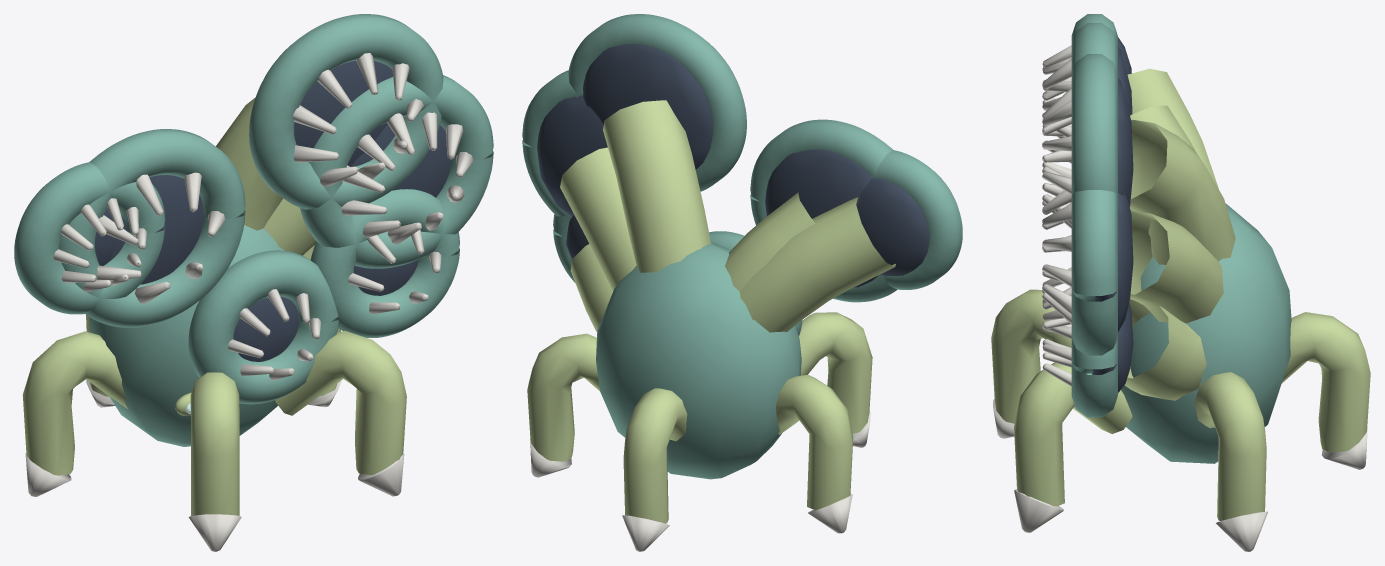
File: bio_manymouth_09_far.glb
3 renders of one model, left to right at view 1: azimuth 30°, elevation 25°; view 2: azimuth 150°, elevation 25°; view 3: azimuth 270°, elevation 25°, orthographic. The views are drawn at different scales.
Visible parts, largest first — view 1: Raised oral lip.003, Raised oral lip.001, Raised oral lip.005, Raised oral lip.002, Raised oral lip.004, Central branching knot, Raised oral lip, Crooked support.003, Crooked support.001, Crooked support.002, Inward tooth.040, Inward tooth.021 (+15 smaller); view 2: Central branching knot, Bent oral neck.003, Bent oral neck.004, Raised oral lip.003, Recessed mouth cavity.003, Crooked support.001, Crooked support, Crooked support.004, Raised oral lip.001, Bent oral neck.005, Raised oral lip.004, Crooked support.002 (+12 smaller); view 3: Central branching knot, Bent oral neck.003, Crooked support, Raised oral lip.005, Crooked support.004, Crooked support.003, Bent oral neck.005, Raised oral lip.003, Crooked support.002, Bent oral neck, Raised oral lip, Bent oral neck.004 (+15 smaller).
Boxes of the visible parts, x1=… form: Raised oral lip.003: x1=249, y1=14, x2=443, y2=209; Raised oral lip.001: x1=59, y1=129, x2=245, y2=327; Raised oral lip.005: x1=300, y1=75, x2=493, y2=268; Raised oral lip.002: x1=188, y1=250, x2=338, y2=404; Raised oral lip.004: x1=14, y1=162, x2=165, y2=314; Central branching knot: x1=89, y1=225, x2=284, y2=446; Raised oral lip: x1=310, y1=189, x2=459, y2=337; Crooked support.003: x1=275, y1=331, x2=406, y2=474; Crooked support.001: x1=22, y1=331, x2=127, y2=475; Crooked support.002: x1=190, y1=372, x2=239, y2=515; Inward tooth.040: x1=341, y1=112, x2=473, y2=244; Inward tooth.021: x1=293, y1=53, x2=423, y2=186; Central branching knot: x1=596, y1=242, x2=801, y2=479; Bent oral neck.003: x1=603, y1=100, x2=711, y2=272; Bent oral neck.004: x1=739, y1=197, x2=895, y2=332; Raised oral lip.003: x1=568, y1=14, x2=746, y2=191; Recessed mouth cavity.003: x1=583, y1=44, x2=713, y2=169; Crooked support.001: x1=776, y1=375, x2=853, y2=509; Crooked support: x1=623, y1=388, x2=687, y2=523; Crooked support.004: x1=527, y1=333, x2=599, y2=461; Raised oral lip.001: x1=750, y1=119, x2=897, y2=302; Bent oral neck.005: x1=560, y1=147, x2=636, y2=290; Raised oral lip.004: x1=871, y1=150, x2=962, y2=289; Crooked support.002: x1=799, y1=312, x2=872, y2=433; Central branching knot: x1=1121, y1=203, x2=1291, y2=463; Bent oral neck.003: x1=1129, y1=119, x2=1235, y2=265; Crooked support: x1=1281, y1=312, x2=1370, y2=452; Raised oral lip.005: x1=1071, y1=190, x2=1117, y2=355; Crooked support.004: x1=1194, y1=372, x2=1266, y2=520; Crooked support.003: x1=1014, y1=362, x2=1132, y2=506; Bent oral neck.005: x1=1130, y1=211, x2=1223, y2=323; Raised oral lip.003: x1=1071, y1=54, x2=1117, y2=194; Crooked support.002: x1=991, y1=289, x2=1071, y2=423; Bent oral neck: x1=1124, y1=294, x2=1206, y2=400; Raised oral lip: x1=1071, y1=336, x2=1117, y2=417; Bent oral neck.004: x1=1127, y1=68, x2=1218, y2=188.
Bounding box in the file's own units: 2.13 × 1.97 × 1.47.
